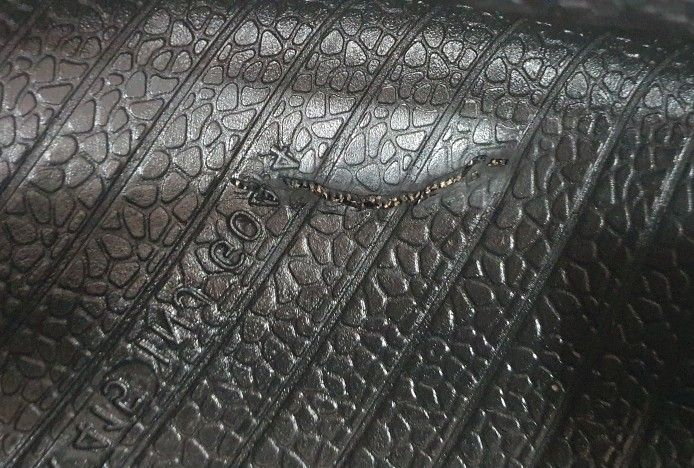CBU: (227, 151, 511, 219)
